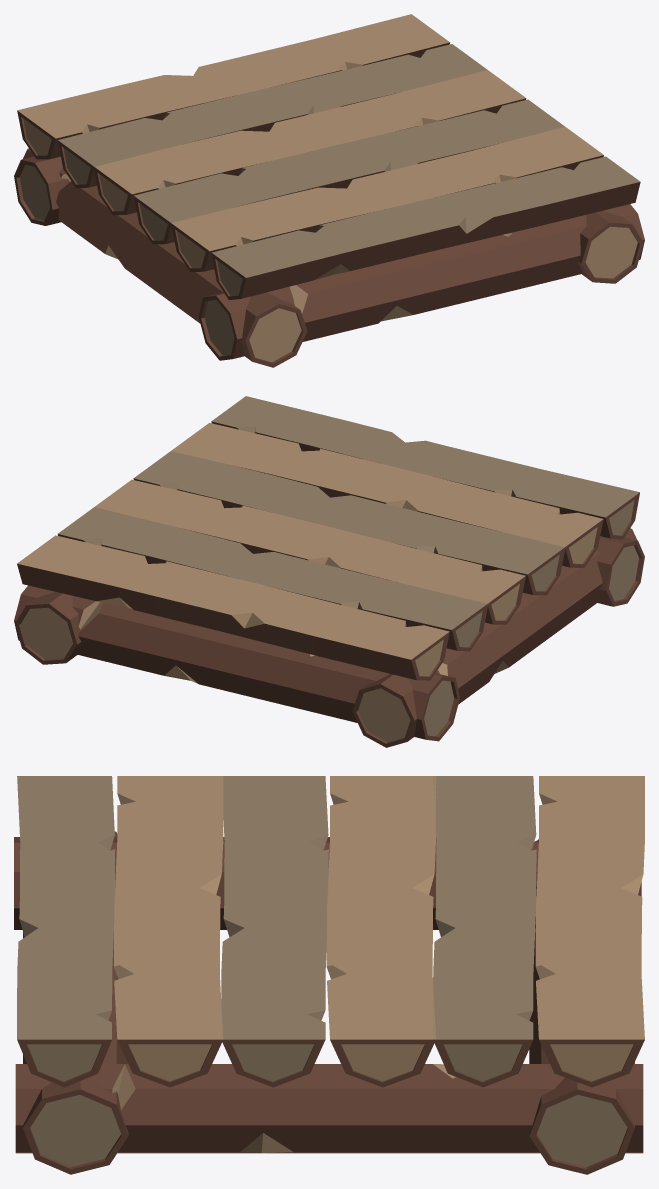
Rendered from Log Foundation.fbx.
3 views of the same model, one above another, from view 1: azimuth 30°, elevation 25°; view 2: azimuth 150°, elevation 25°; view 3: azimuth 270°, elevation 25° (orthographic). The views are drawn at different scales.
Visible parts, largest first — view 1: Log Foundation Part 05, Log Foundation Part 04, Log Foundation Part 10, Log Foundation Part 06, Log Foundation Part 08, Log Foundation Part 07, Log Foundation Part 09, Log Foundation Part 02, Log Foundation Part 03, Log Foundation Part 01; view 2: Log Foundation Part 10, Log Foundation Part 01, Log Foundation Part 06, Log Foundation Part 08, Log Foundation Part 07, Log Foundation Part 09, Log Foundation Part 05, Log Foundation Part 02, Log Foundation Part 03, Log Foundation Part 04; view 3: Log Foundation Part 03, Log Foundation Part 06, Log Foundation Part 10, Log Foundation Part 08, Log Foundation Part 07, Log Foundation Part 09, Log Foundation Part 05, Log Foundation Part 04, Log Foundation Part 01, Log Foundation Part 02.
Part boxes in pixels (x1=…): Log Foundation Part 05: x1=211, y1=156, x2=640, y2=299; Log Foundation Part 04: x1=198, y1=204, x2=644, y2=360; Log Foundation Part 10: x1=17, y1=14, x2=449, y2=159; Log Foundation Part 06: x1=171, y1=126, x2=603, y2=271; Log Foundation Part 08: x1=93, y1=70, x2=526, y2=214; Log Foundation Part 07: x1=134, y1=99, x2=564, y2=244; Log Foundation Part 09: x1=58, y1=44, x2=487, y2=188; Log Foundation Part 02: x1=23, y1=148, x2=307, y2=367; Log Foundation Part 03: x1=578, y1=211, x2=643, y2=283; Log Foundation Part 01: x1=14, y1=156, x2=69, y2=225; Log Foundation Part 10: x1=17, y1=535, x2=449, y2=680; Log Foundation Part 01: x1=14, y1=585, x2=459, y2=741; Log Foundation Part 06: x1=171, y1=423, x2=603, y2=567; Log Foundation Part 08: x1=94, y1=479, x2=525, y2=624; Log Foundation Part 07: x1=133, y1=451, x2=565, y2=595; Log Foundation Part 09: x1=57, y1=507, x2=488, y2=651; Log Foundation Part 05: x1=211, y1=396, x2=639, y2=539; Log Foundation Part 02: x1=352, y1=528, x2=636, y2=747; Log Foundation Part 03: x1=15, y1=592, x2=81, y2=664; Log Foundation Part 04: x1=597, y1=536, x2=644, y2=606; Log Foundation Part 03: x1=15, y1=1064, x2=643, y2=1153; Log Foundation Part 06: x1=114, y1=776, x2=223, y2=1087; Log Foundation Part 10: x1=535, y1=776, x2=644, y2=1087; Log Foundation Part 08: x1=326, y1=776, x2=435, y2=1087; Log Foundation Part 07: x1=221, y1=776, x2=328, y2=1087; Log Foundation Part 09: x1=433, y1=776, x2=536, y2=1087; Log Foundation Part 05: x1=17, y1=776, x2=115, y2=1087; Log Foundation Part 04: x1=23, y1=831, x2=128, y2=1174; Log Foundation Part 01: x1=529, y1=839, x2=634, y2=1174; Log Foundation Part 02: x1=14, y1=837, x2=641, y2=929.
Bounding box in the file's own units: 2.45 × 0.5475 × 2.4.
